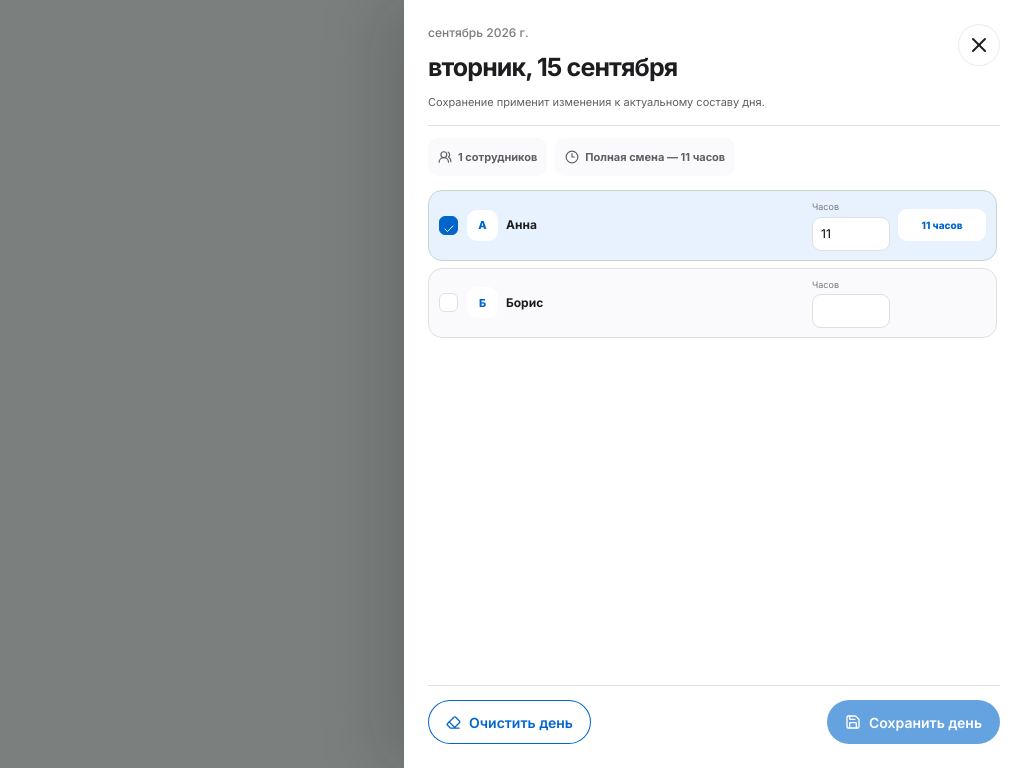
Test: shift editor shared ownership › bounds simultaneous retries and retains the manager draft
Click the button "Б Борис" at [482, 303], box [439,287,804,318]
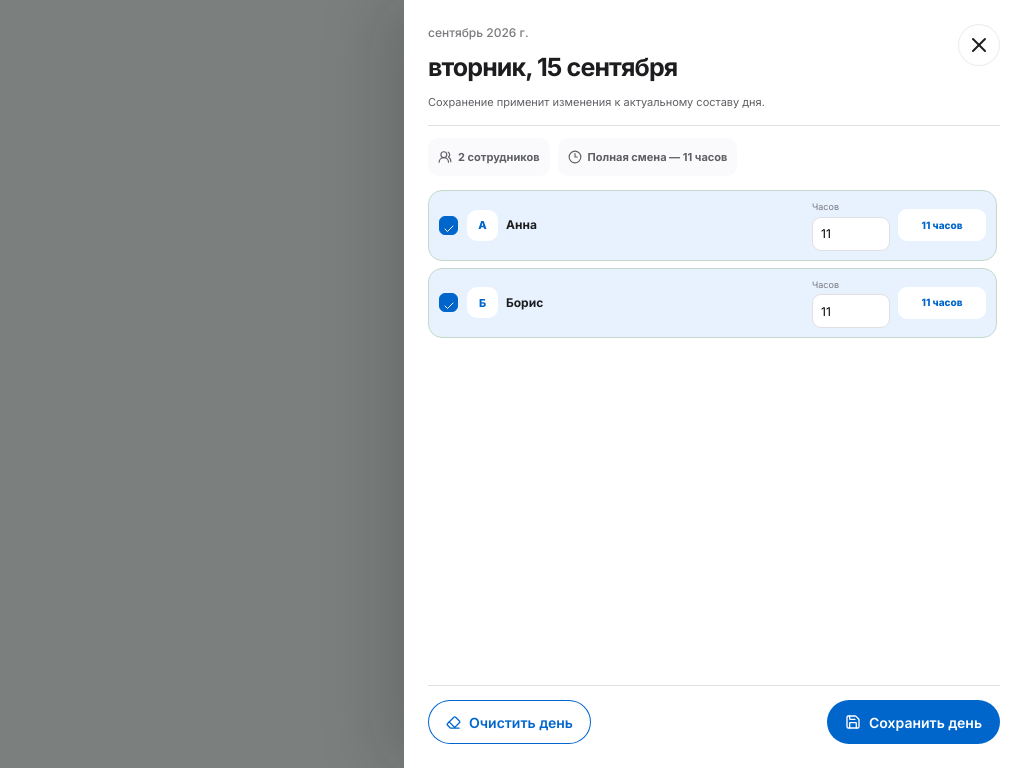
Click the button "Сохранить день" at [914, 722], box [827,700,1000,744]
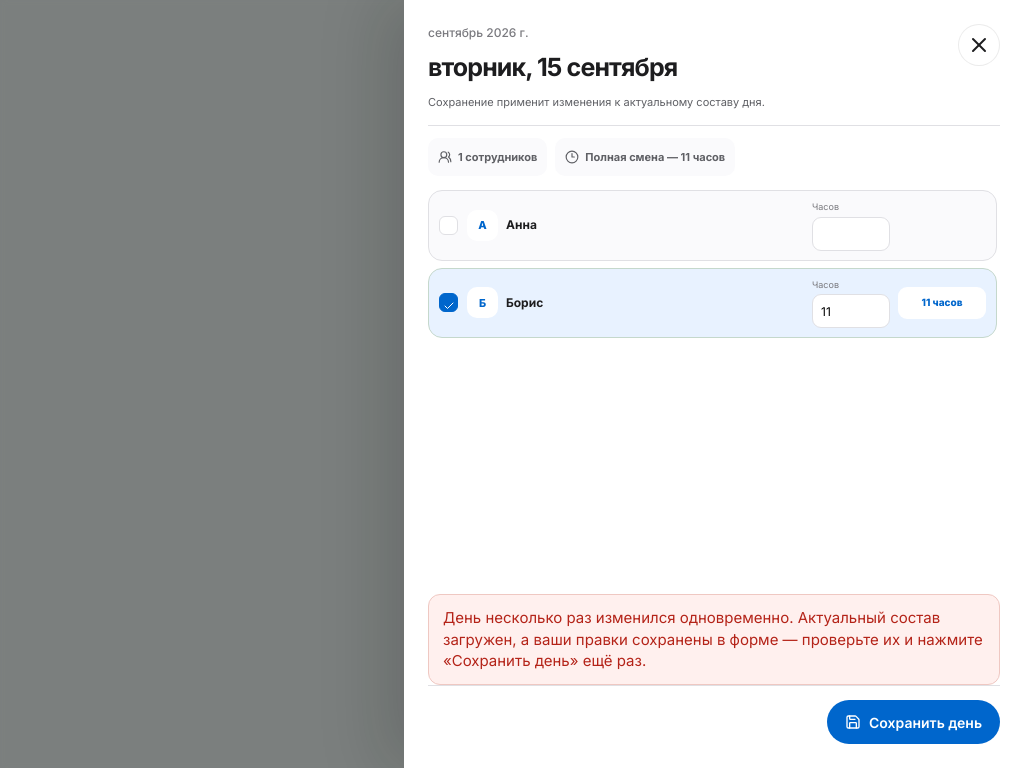
Expected: the 2nd field labelled "Часов" holds "11", [812,294,890,328]
Expected: the text "несколько раз изменился одновременно" is shown, [443,608,983,670]
